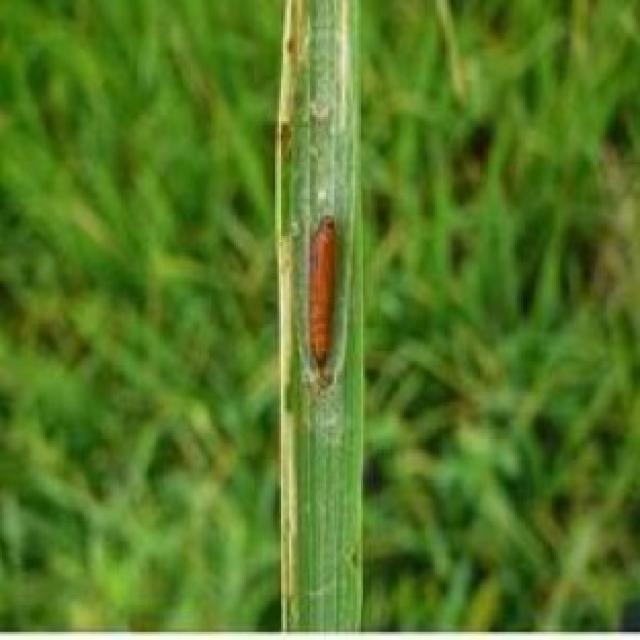rice leaf roller: (308, 215, 334, 367)
